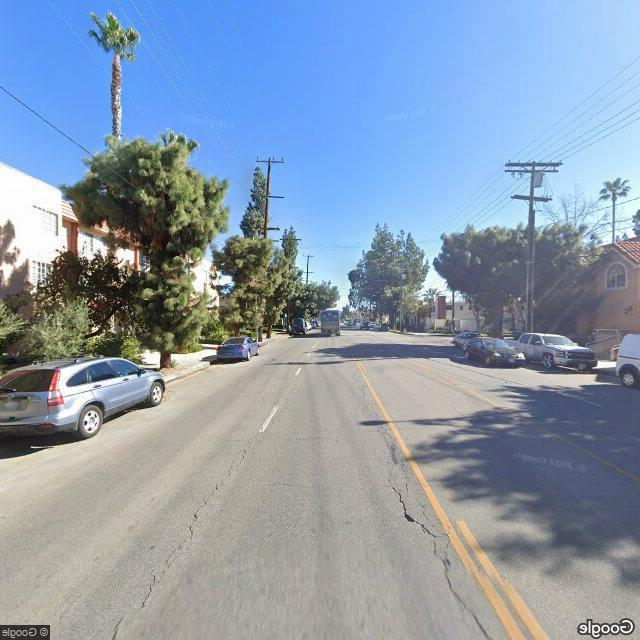pothole: (114, 411, 271, 633), (359, 380, 493, 627)
